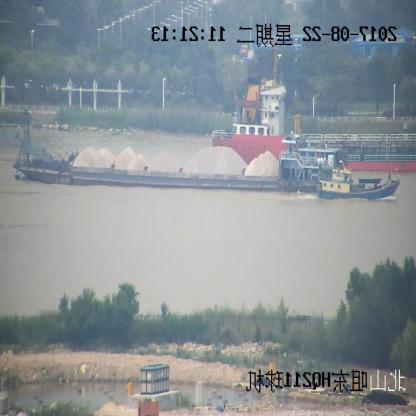Fishing Boat: (316, 161, 400, 202)
